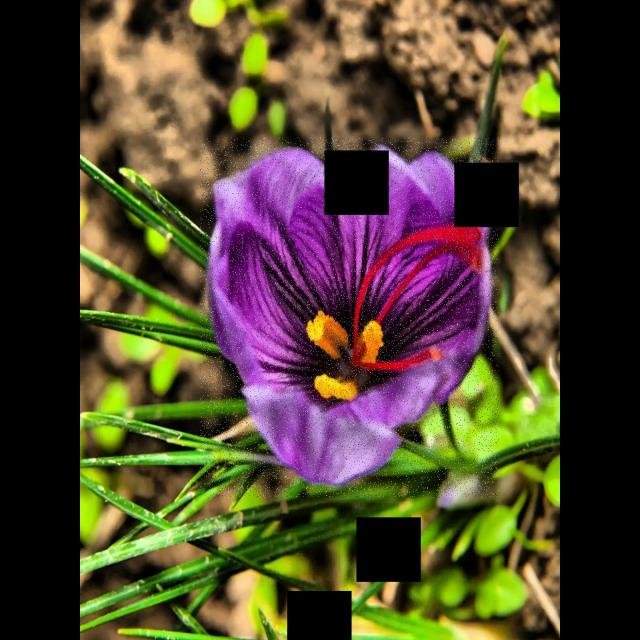Flower: (200, 137, 499, 497)
stigma: (351, 220, 484, 355), (375, 240, 484, 327), (354, 342, 446, 372)
